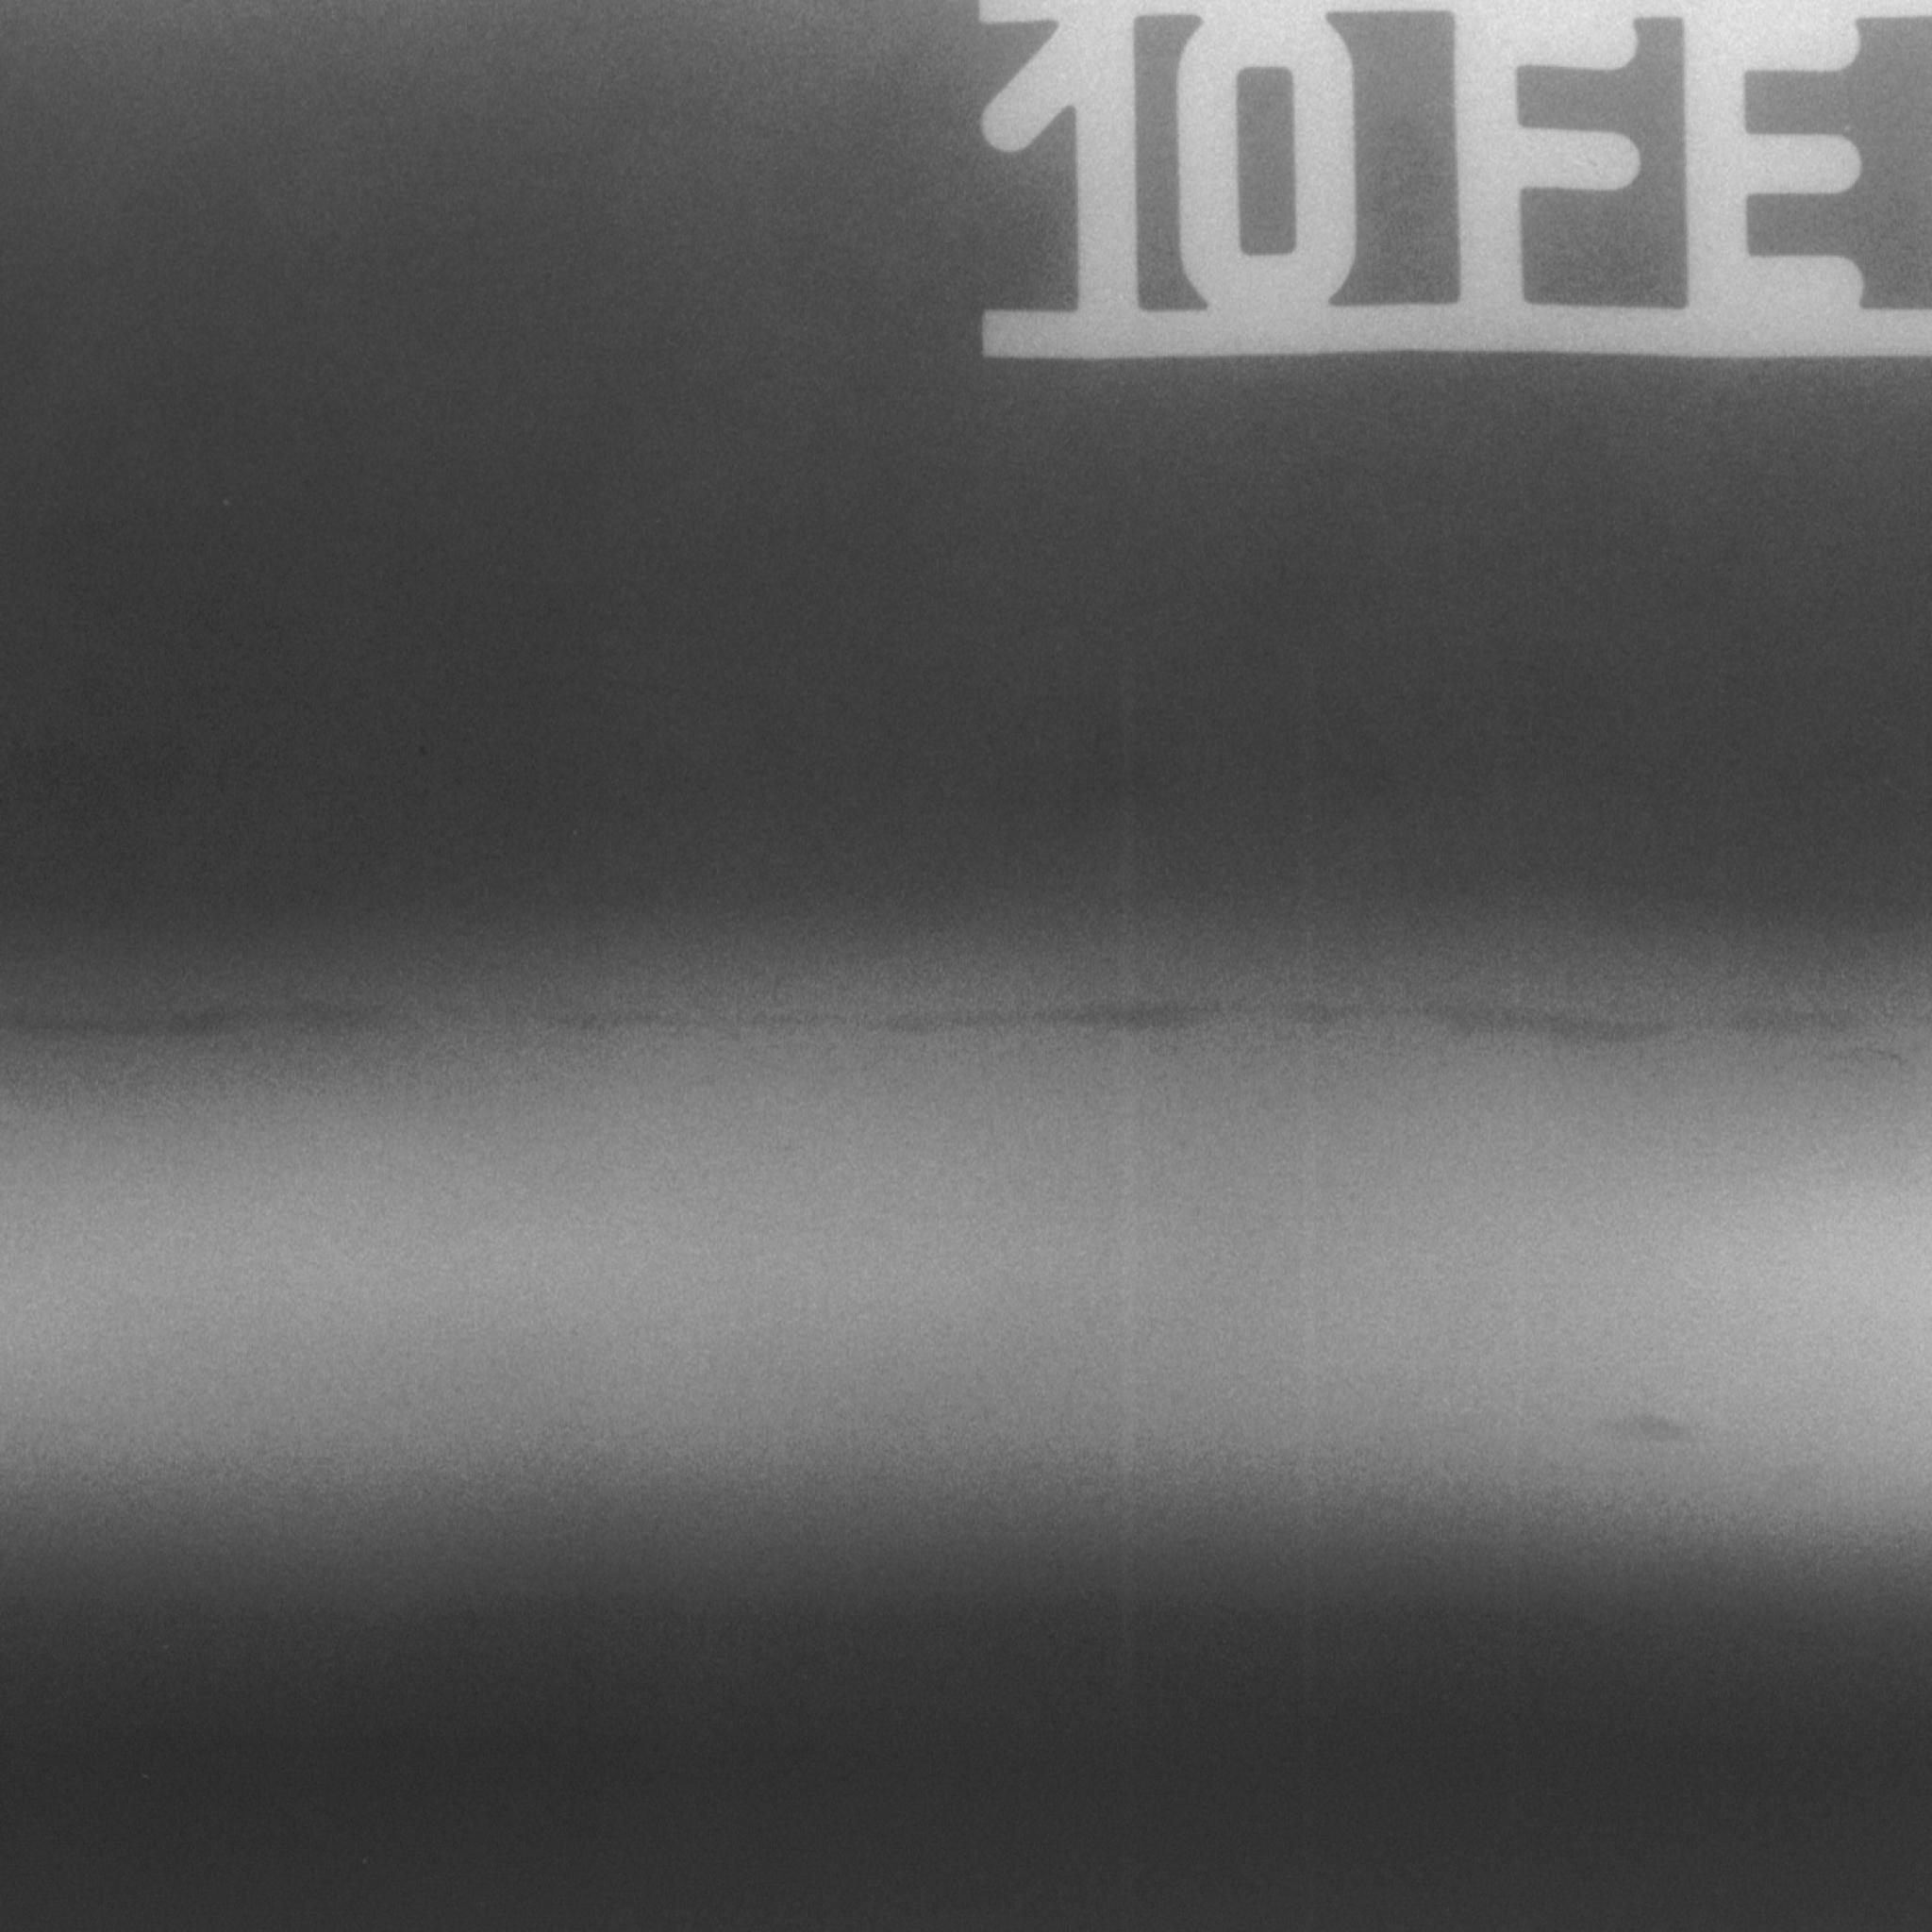MR: (0, 863, 1932, 1645)
